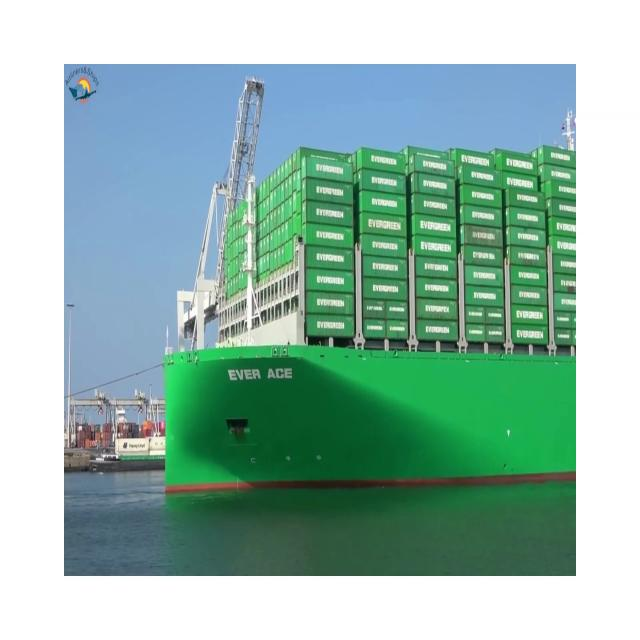OCR: (224, 359, 296, 394)
